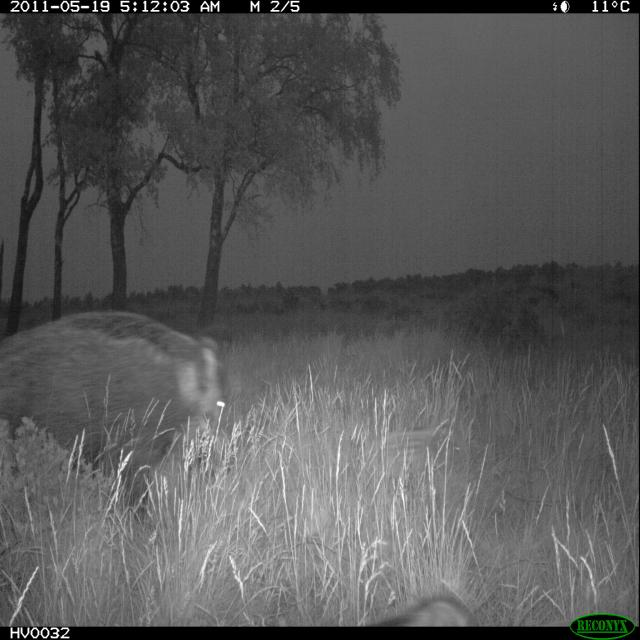boar: (0, 279, 277, 537)
